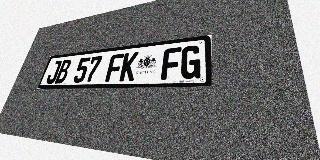5: (72, 57, 91, 83)
7: (84, 56, 103, 83)
B: (54, 59, 72, 84)
F: (161, 47, 182, 80), (105, 53, 124, 82)
G: (180, 45, 201, 79)
J: (45, 60, 62, 84)
K: (119, 52, 139, 81)
